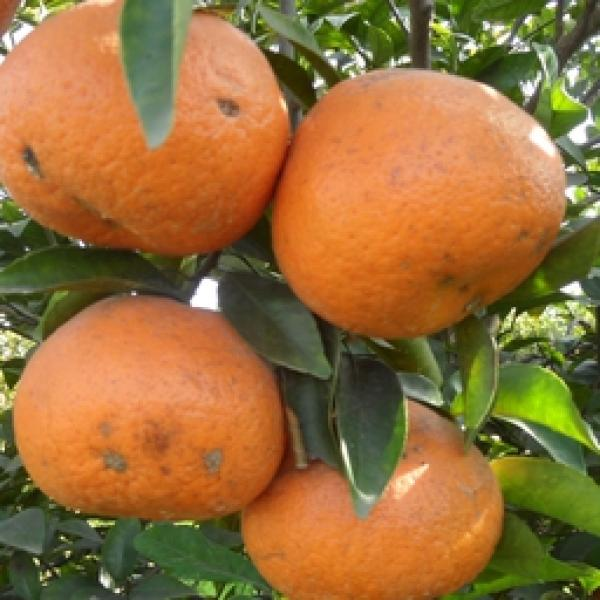Machas negras: (257, 51, 576, 347), (0, 0, 309, 273), (0, 277, 304, 530)
